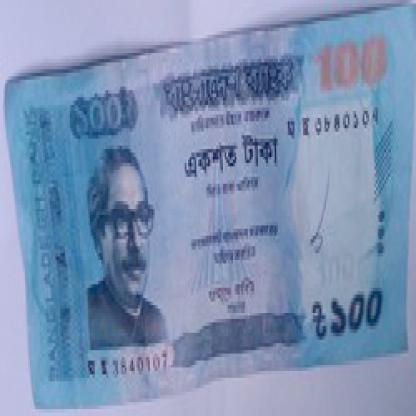one hundred taka: (310, 35, 392, 97), (324, 281, 400, 340), (63, 83, 130, 142)
